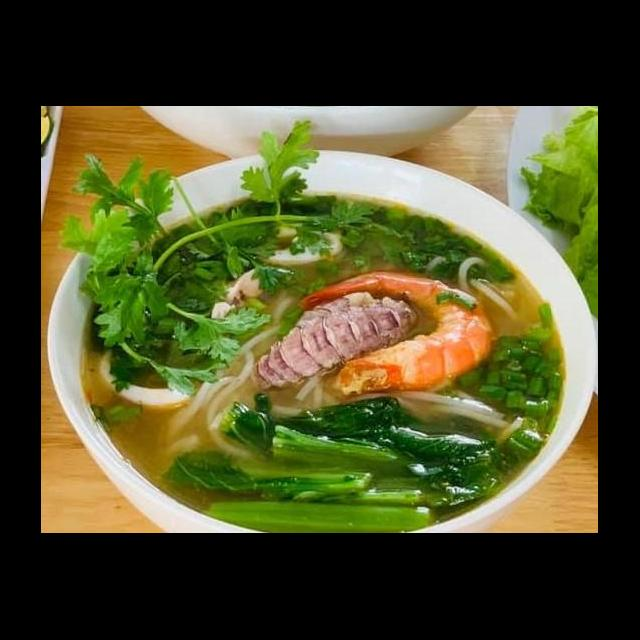bun: (156, 321, 334, 472), (340, 384, 530, 456), (424, 248, 524, 326)
bun hai san: (63, 147, 598, 528)
muc: (96, 332, 204, 414), (238, 220, 356, 272)
tom: (296, 268, 502, 407)
tom tit: (248, 293, 422, 397)
